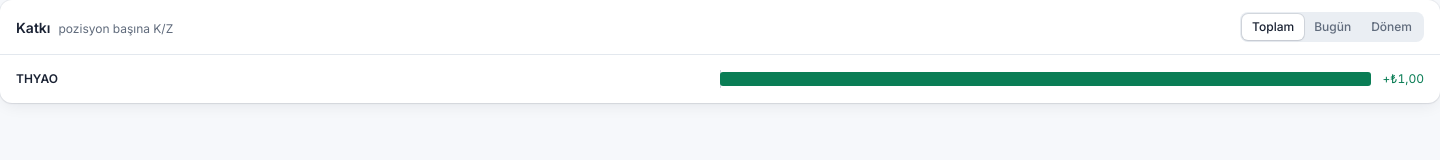
Test: ContributionCard › range mode › reads as empty while the attribution has not answered
Click the radio button labelled "Dönem".
click(1392, 27)  # box left=1361, top=14, right=1422, bottom=40
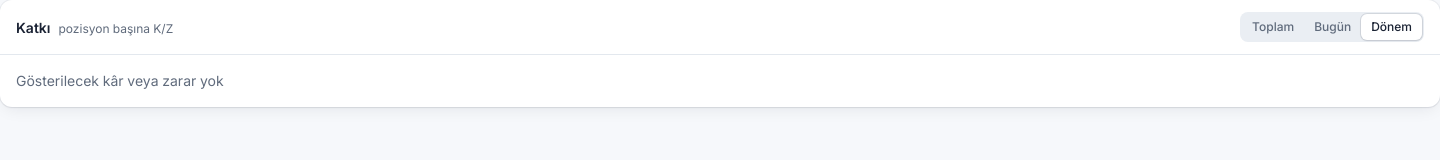
Result: the text "Gösterilecek kâr veya zarar yok" is shown at left=16, top=72, right=224, bottom=89
